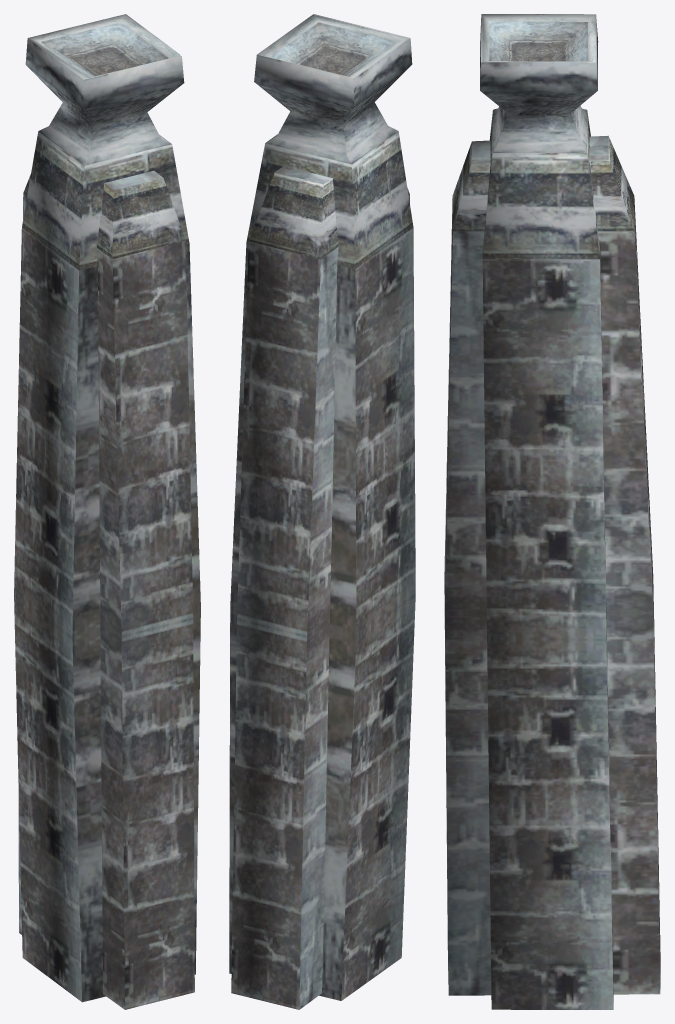
Rendered from S_Build_Snowland158.FBX.
3 renders of one model, left to right at view 1: azimuth 30°, elevation 25°; view 2: azimuth 150°, elevation 25°; view 3: azimuth 270°, elevation 25°, orthographic. The views are drawn at different scales.
Visible parts, largest first — view 1: S_Build_Snowland158; view 2: S_Build_Snowland158; view 3: S_Build_Snowland158.
Boxes of the visible parts, x1,y1,x2,y2 form: S_Build_Snowland158: (14, 14, 200, 1009); S_Build_Snowland158: (229, 14, 415, 1009); S_Build_Snowland158: (444, 14, 660, 1009).
Bounding box in the file's own units: 139 × 200 × 960.
